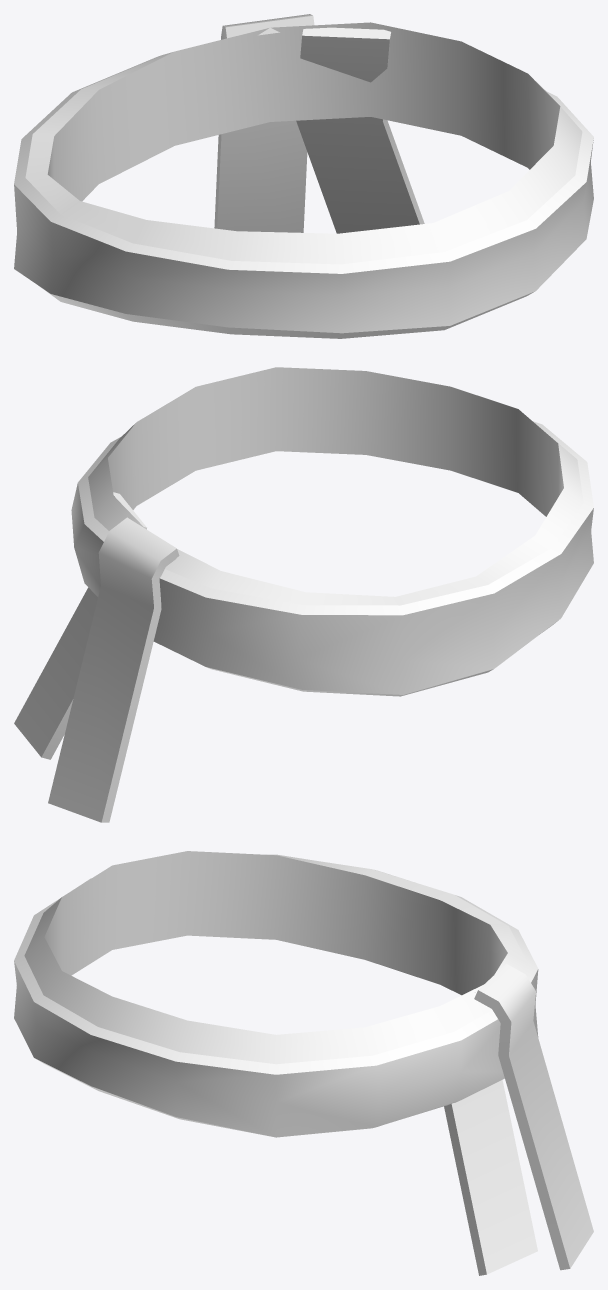
Rendered from muffler.fbx.
3 views of the same model, one above another, from view 1: azimuth 30°, elevation 25°; view 2: azimuth 150°, elevation 25°; view 3: azimuth 270°, elevation 25° (orthographic). The views are drawn at different scales.
Visible parts, largest first — view 1: Shape012; view 2: Shape012; view 3: Shape012.
Boxes of the visible parts, x1,y1,x2,y2 form: Shape012: (14, 14, 593, 338); Shape012: (14, 367, 593, 822); Shape012: (14, 851, 593, 1275).
Size of the model in its own units: 101 by 58.24 by 111.
